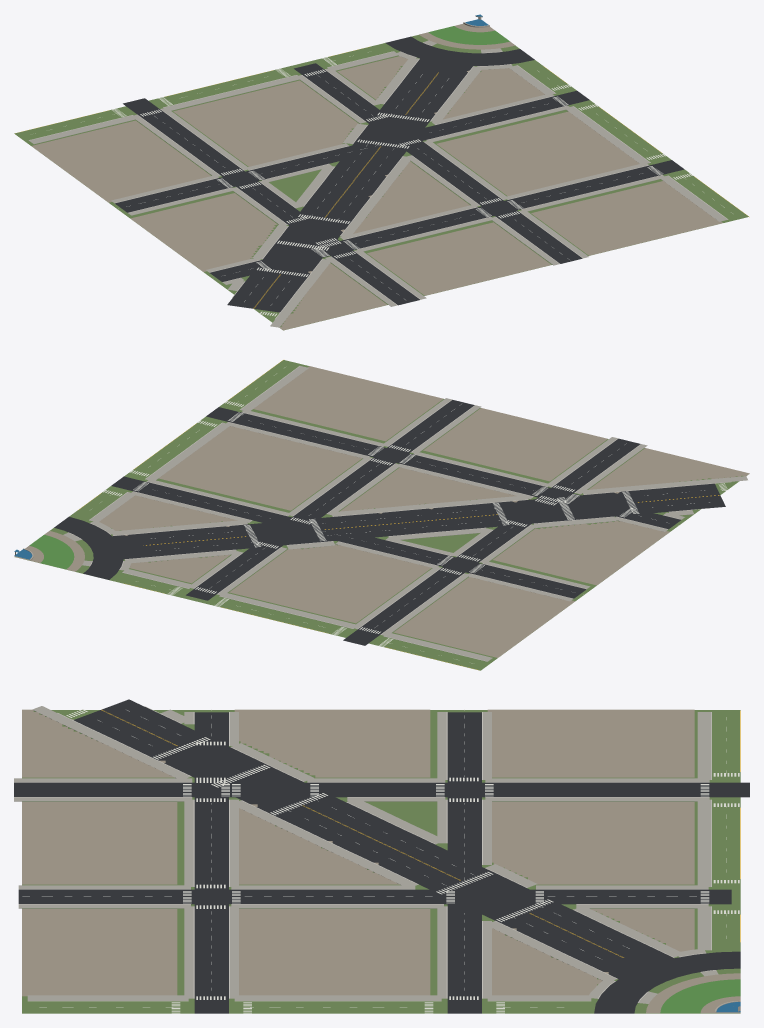
The model's file is Ground_3_3.fbx.
3 views of the same model, one above another, from view 1: azimuth 30°, elevation 25°; view 2: azimuth 150°, elevation 25°; view 3: azimuth 270°, elevation 25° (orthographic). The views are drawn at different scales.
Parts seen in each view (by area): view 1: Ground_3_3; view 2: Ground_3_3; view 3: Ground_3_3.
Part boxes in pixels (box(x1,y1,x2,y2)): Ground_3_3: box(14, 14, 749, 330); Ground_3_3: box(14, 360, 749, 670); Ground_3_3: box(14, 699, 749, 1013).
Bounding box in the file's own units: 259 × 2.75 × 256.
